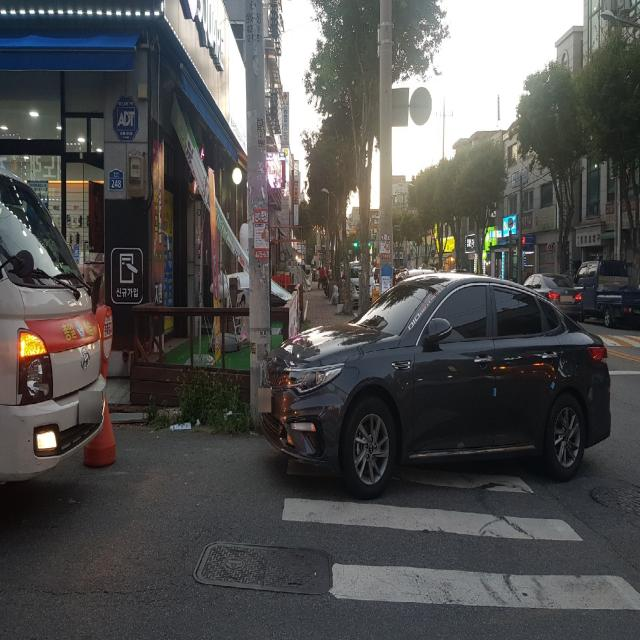횡단보도: (280, 468, 638, 616)
